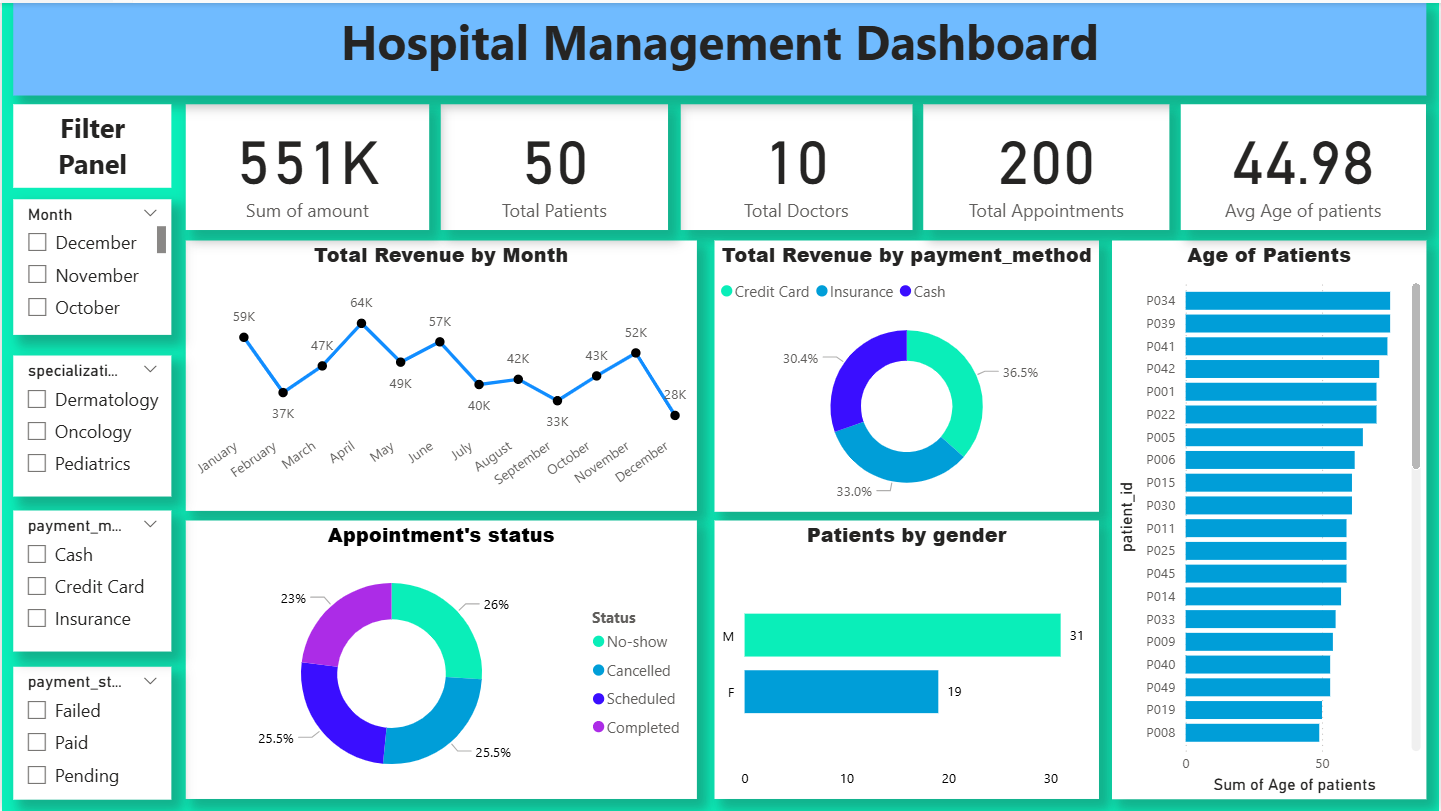

This screenshot's page, from the dashboard's own definition file:
{"tool":"powerbi","page":{"name":"Page 1","canvas":[1280,720],"ordinal":0},"visuals":[{"type":"card","fields":{"Values":["Sum(healthcare billing_data.amount)"]},"box":[164.1,90.5,217.2,112.2],"z":0,"group":"g1"},{"type":"card","fields":{"Values":["Measure.Total Doctors"]},"box":[604.4,90.5,206.3,112.2],"z":2000},{"type":"lineChart","fields":{"Category":["healthcare billing_data.bill_date.Variation.Date Hierarchy.Month"],"Y":["Measure.Total Revenue"]},"box":[163.9,211.6,454.9,240.9],"z":3000},{"type":"card","fields":{"Values":["Measure.Total Patients"]},"box":[390.9,90.5,202.7,112.2],"z":4000},{"type":"donutChart","fields":{"Category":["healthcare billing_data.payment_method"],"Y":["Measure.Total Revenue"]},"box":[634.6,211.1,342.6,241.3],"z":5000},{"type":"card","fields":{"Values":["Measure.Total Appointments"]},"box":[820.4,90.5,219.6,112.2],"z":5001},{"type":"donutChart","title":"Appointment''s status","fields":{"Category":["healthcare appointments_data.status"],"Y":["CountNonNull(healthcare appointments_data.appointment_id)"]},"box":[163.9,461,454.9,248.2],"z":5002},{"type":"barChart","title":"Patients by gender","fields":{"Category":["healthcare patients_data.gender"],"Y":["Count(healthcare patients_data.patient_id)"]},"box":[634.7,461,342.4,248.2],"z":5003},{"type":"barChart","title":"Age of Patients","fields":{"Y":["Sum(healthcare patients_data.Avg Age of patients)"],"Category":["healthcare patients_data.patient_id"]},"box":[988,211.6,280,497.7],"z":5004},{"type":"slicer","fields":{"Values":["healthcare doctors_data.specialization"]},"box":[9.7,313.7,141.2,125.5],"z":5006},{"type":"slicer","fields":{"Values":["healthcare billing_data.payment_status"]},"box":[9.7,591.2,141.2,118.2],"z":5007},{"type":"slicer","fields":{"Values":["healthcare billing_data.payment_method"]},"box":[9.7,452.4,141.2,125.5],"z":5008},{"type":"slicer","fields":{"Values":["healthcare billing_data.bill_date.Variation.Date Hierarchy.Month"]},"box":[9.7,174.9,141.2,120.6],"z":5010},{"type":"group","id":"g1","title":"Group 1","box":[164.1,90.5,217.2,112.2],"z":5012},{"type":"textbox","box":[9.7,0,1258.3,82],"z":5013},{"type":"card","fields":{"Values":["Avg(healthcare patients_data.Avg Age of patients)"]},"box":[1049.6,90.5,218.4,112.2],"z":5014},{"type":"textbox","box":[9.7,90.5,141.2,74.8],"z":5015}]}

Visuals, with their boxes in screenshot pixels (x1, y1, x2, y2), scaled from the page's 1280x720 canvas onto the 1441x811 screenshot:
card - Sum(healthcare billing_data.amount): 185,102,429,228
card - Measure.Total Doctors: 680,102,913,228
lineChart - healthcare billing_data.bill_date.Variation.Date Hierarchy.Month x Measure.Total Revenue: 185,238,697,510
card - Measure.Total Patients: 440,102,668,228
donutChart - healthcare billing_data.payment_method x Measure.Total Revenue: 714,238,1100,510
card - Measure.Total Appointments: 924,102,1171,228
"Appointment''s status" donutChart: 185,519,697,799
"Patients by gender" barChart: 715,519,1100,799
"Age of Patients" barChart: 1112,238,1427,799
slicer - healthcare doctors_data.specialization: 11,353,170,495
slicer - healthcare billing_data.payment_status: 11,666,170,799
slicer - healthcare billing_data.payment_method: 11,510,170,651
slicer - healthcare billing_data.bill_date.Variation.Date Hierarchy.Month: 11,197,170,333
"Group 1" group: 185,102,429,228
textbox: 11,0,1427,92
card - Avg(healthcare patients_data.Avg Age of patients): 1182,102,1427,228
textbox: 11,102,170,186
